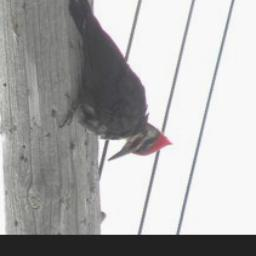Woodpecker: (57, 0, 175, 164)
